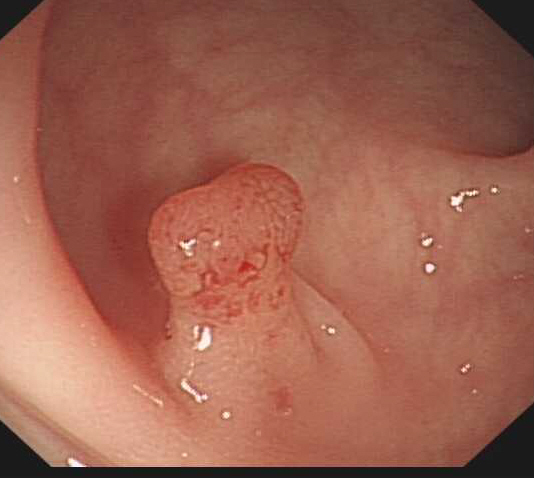adenoma: (144, 161, 309, 337)
